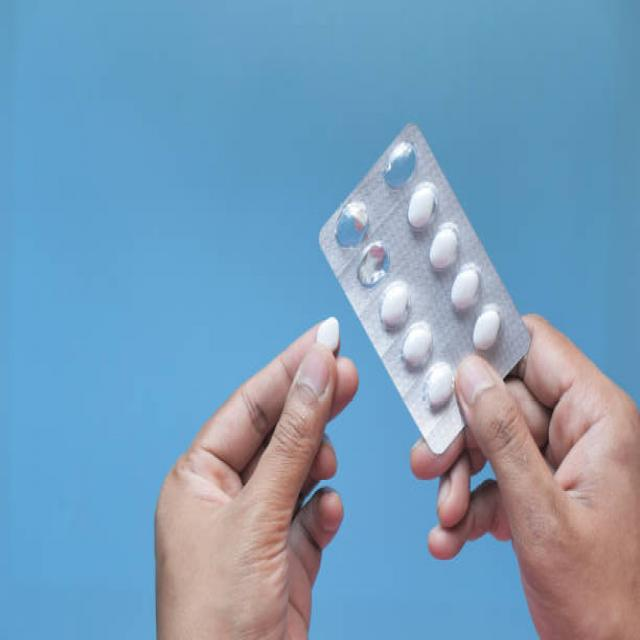Empty: (335, 195, 368, 257), (379, 135, 416, 187), (356, 238, 391, 288)
Pill: (396, 321, 444, 372), (418, 362, 460, 414), (426, 220, 465, 274), (448, 258, 485, 314), (471, 301, 502, 358), (381, 280, 412, 334), (405, 181, 438, 231)
